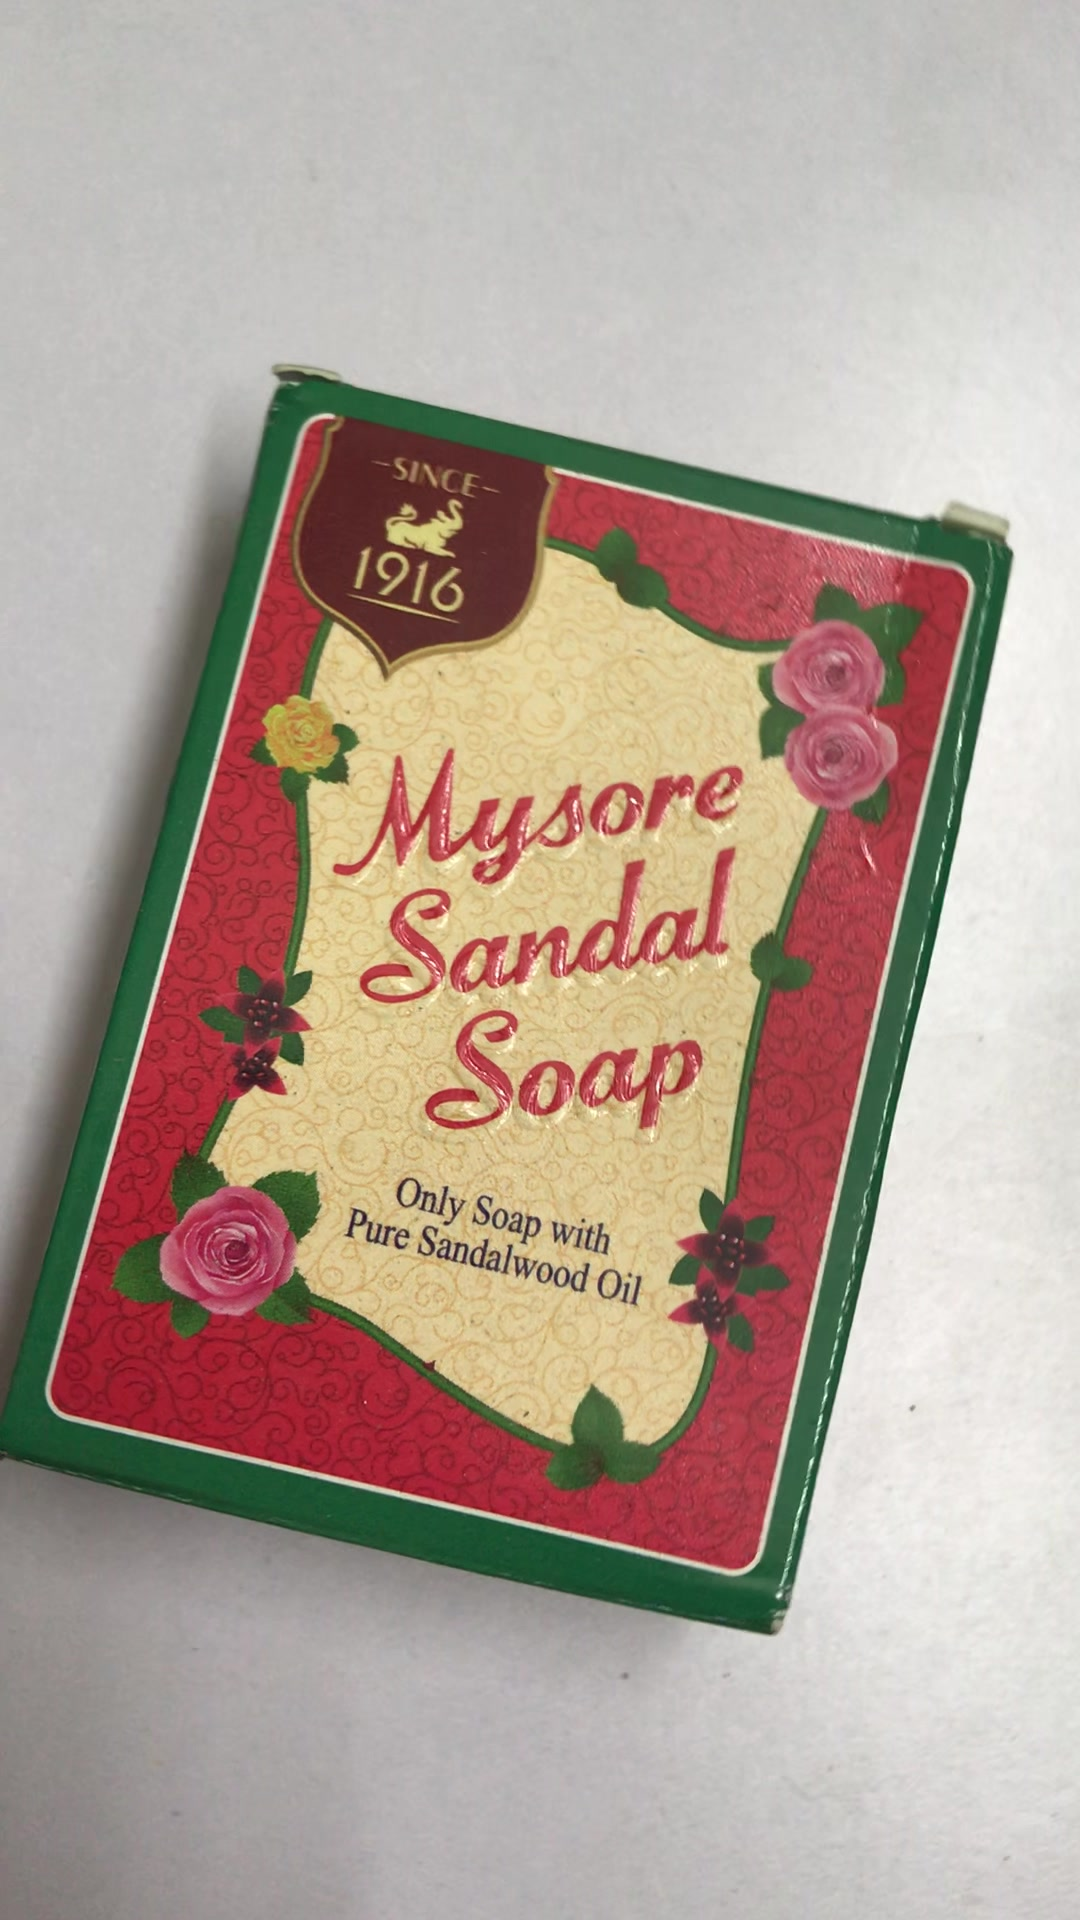mysore sandal soap: (1, 369, 1011, 1638)
